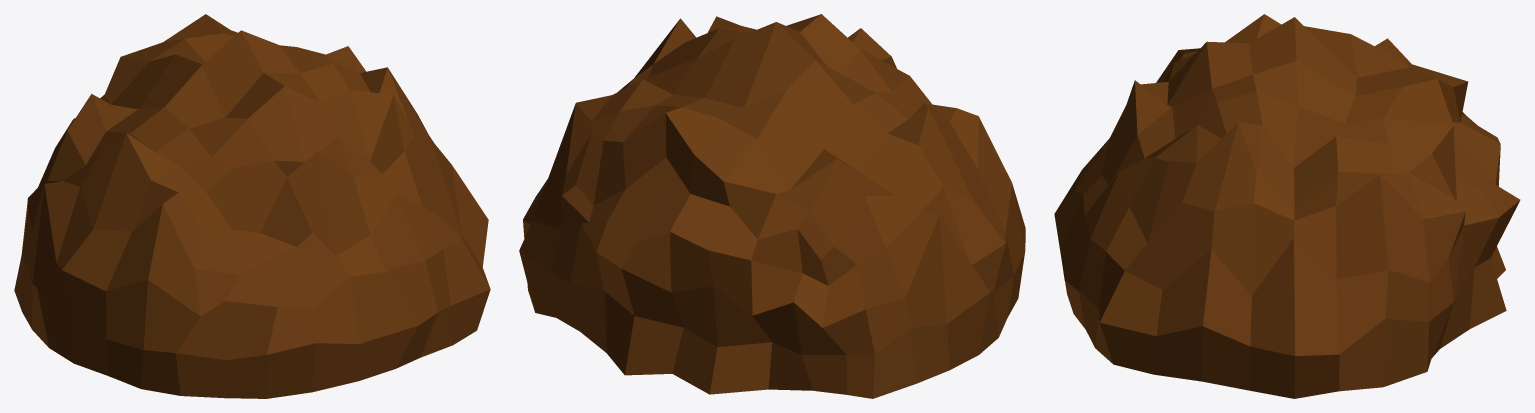
Rendered from boulder.gltf.
3 renders of one model, left to right at view 1: azimuth 30°, elevation 25°; view 2: azimuth 150°, elevation 25°; view 3: azimuth 270°, elevation 25°, orthographic. The views are drawn at different scales.
Visible parts, largest first — view 1: Cube; view 2: Cube; view 3: Cube.
Boxes of the visible parts, left/top/right/bottom form: Cube: left=14, top=14, right=490, bottom=398; Cube: left=519, top=14, right=1025, bottom=398; Cube: left=1054, top=14, right=1520, bottom=398.
Bounding box in the file's own units: 1.93 × 1.15 × 1.77.
